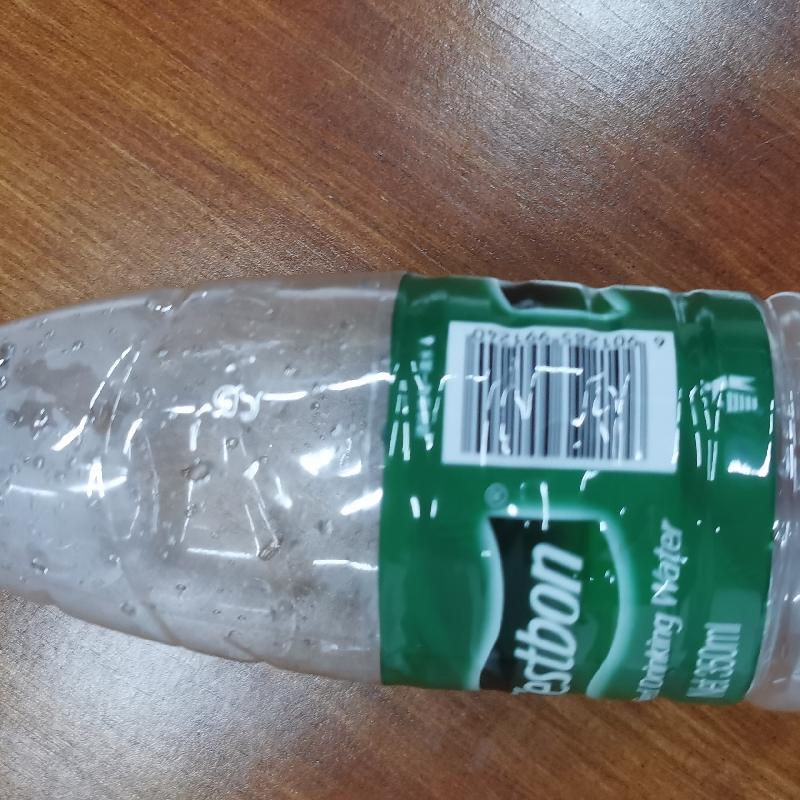bottles: (2, 273, 799, 709)
